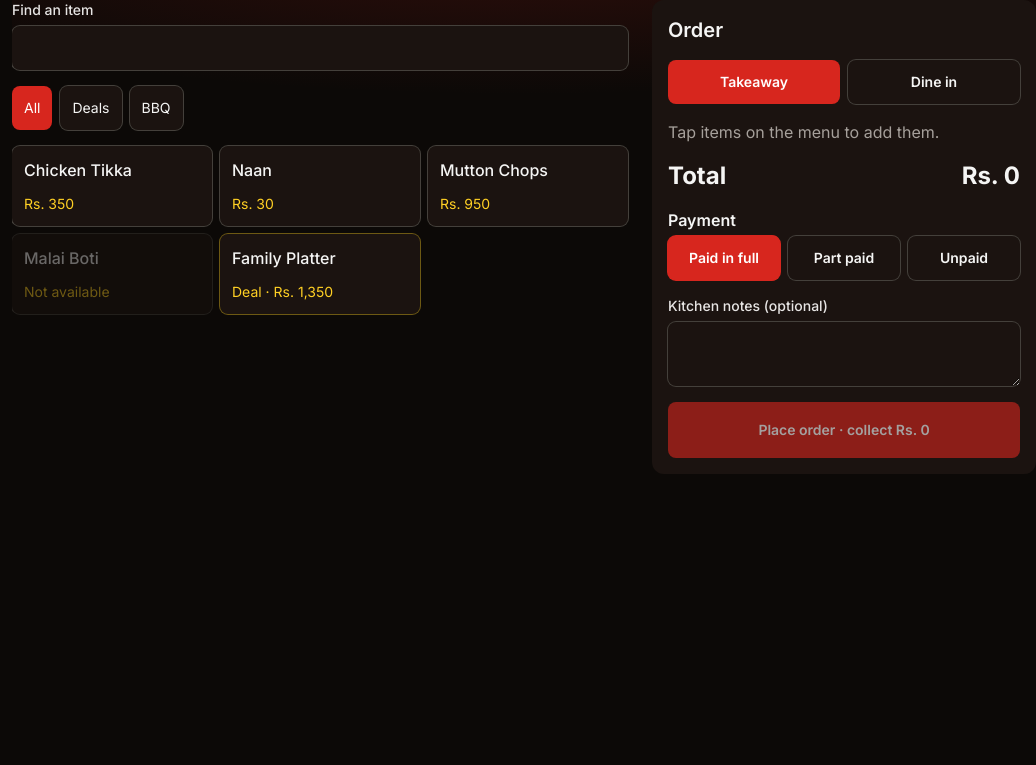
it: the counter screen › blocks going over the khata limit before anything is sent
The image size is (1036, 765).
Click the button "Naan Rs. 30".
click(320, 186)  # box [220,146,420,226]
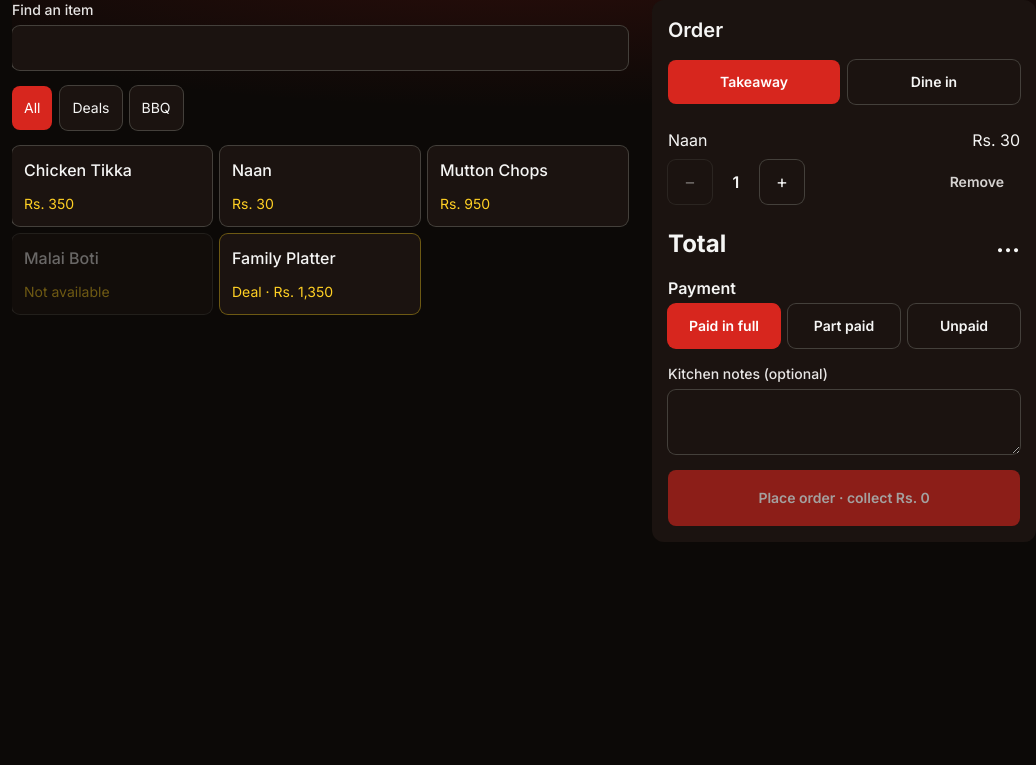
Click the radio button labelled "Unpaid".
click(964, 326)  # box [908,304,1020,348]
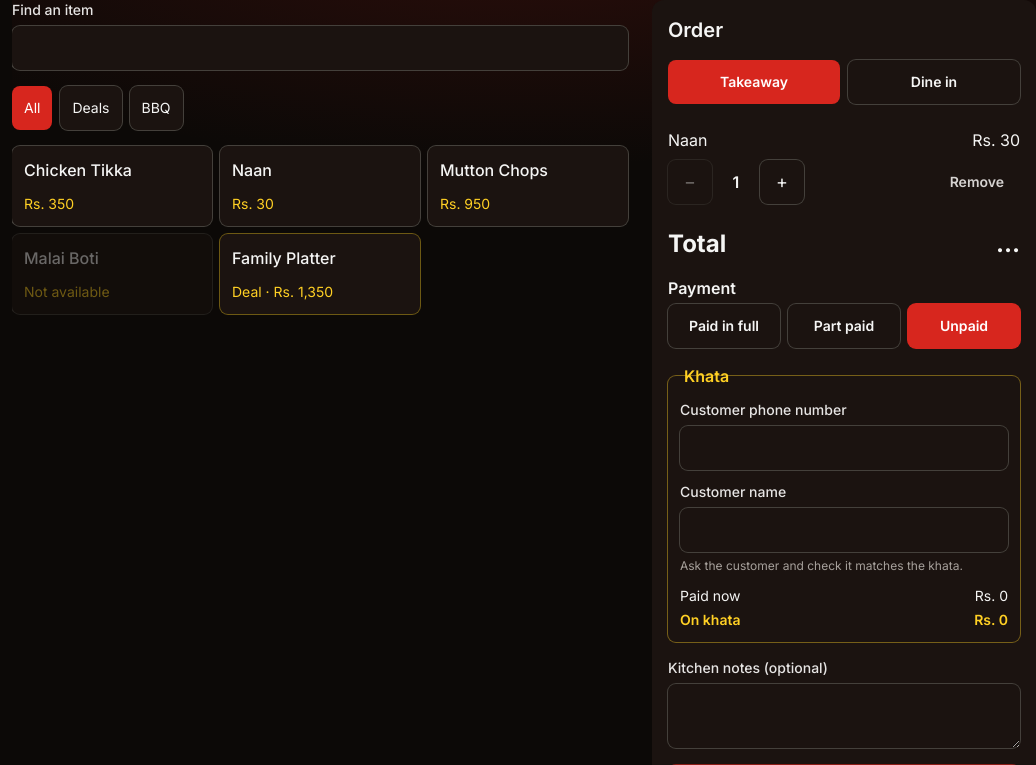
Type "03331234500" into the field labelled "Customer phone number".
click(844, 448); type("03331234500")  # box [680,426,1008,470]
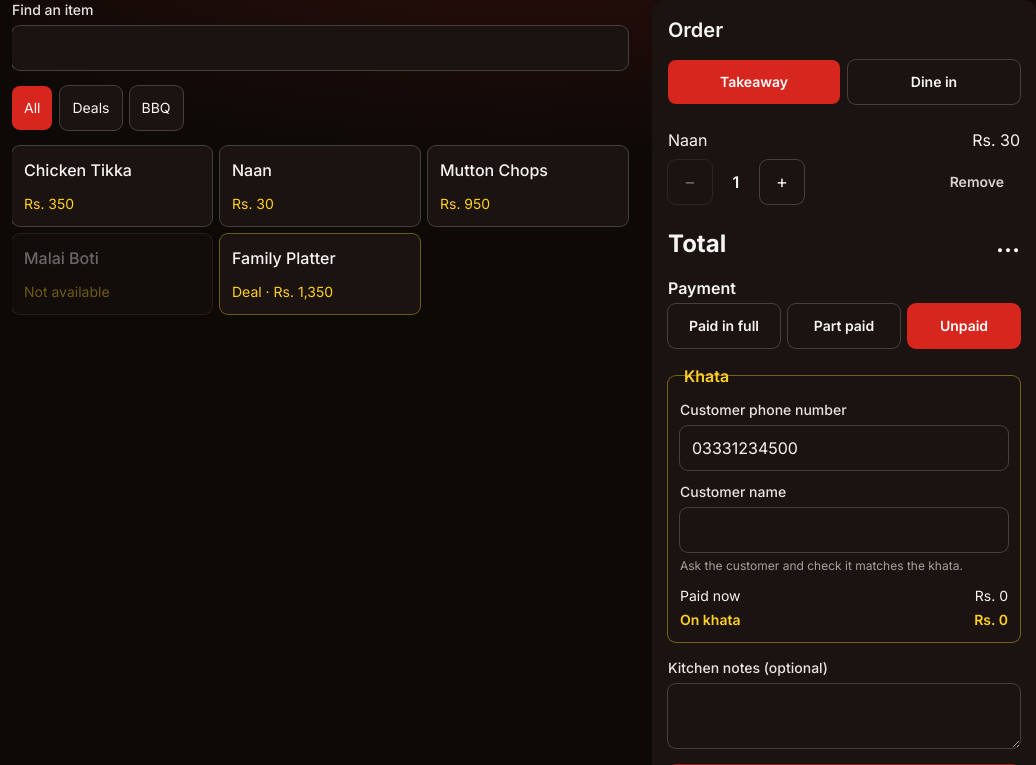
Type "New Person" into the field labelled "Customer name".
click(844, 530); type("New Person")  # box [680,508,1008,552]
(page scrolled)
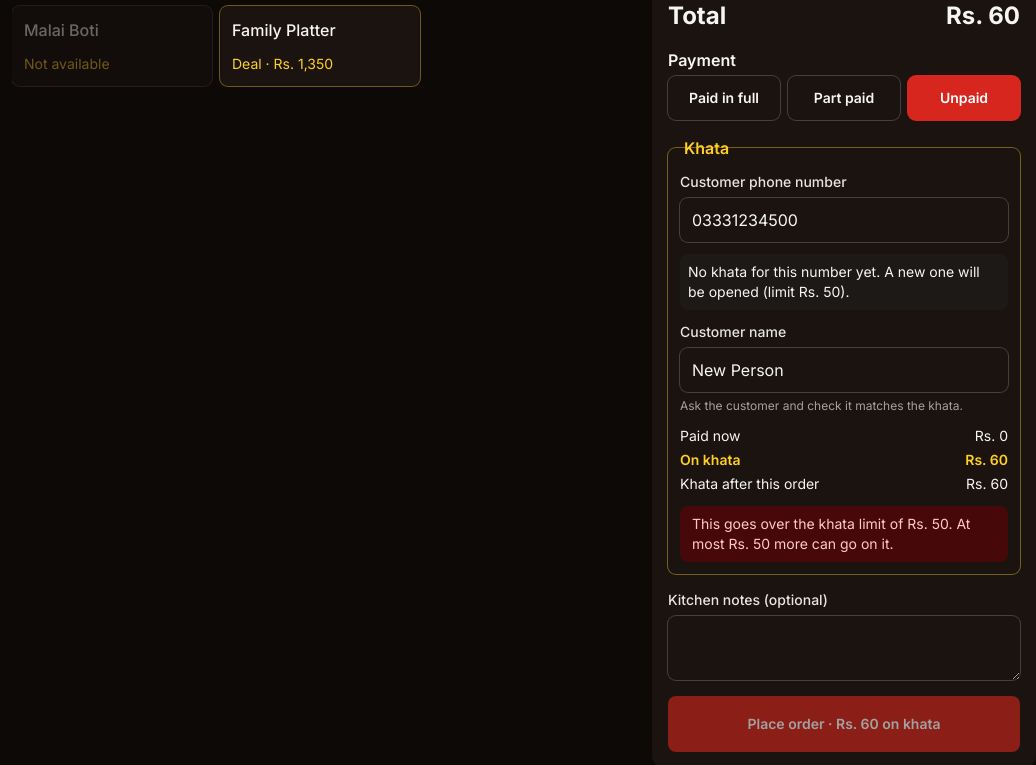
expect the button "Place order · Rs. 60 on khata" is disabled: met, box [668,696,1020,752]
expect the text "No khata for this number yet. A new one will be opened (limit Rs. 50)." is shown: met, box [680,254,1008,310]
expect the text "This goes over the khata limit of Rs. 50. At most Rs. 50 more can go on it." is shown: met, box [680,506,1008,562]
